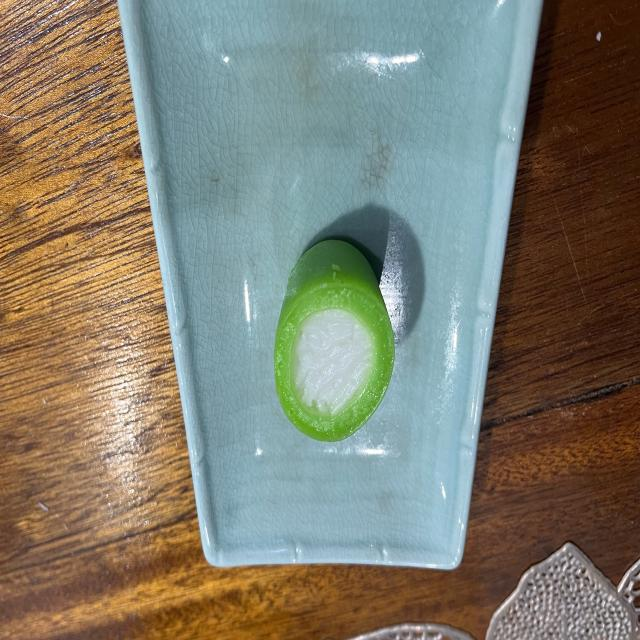nona-manis: (120, 0, 541, 569), (274, 240, 395, 442)
